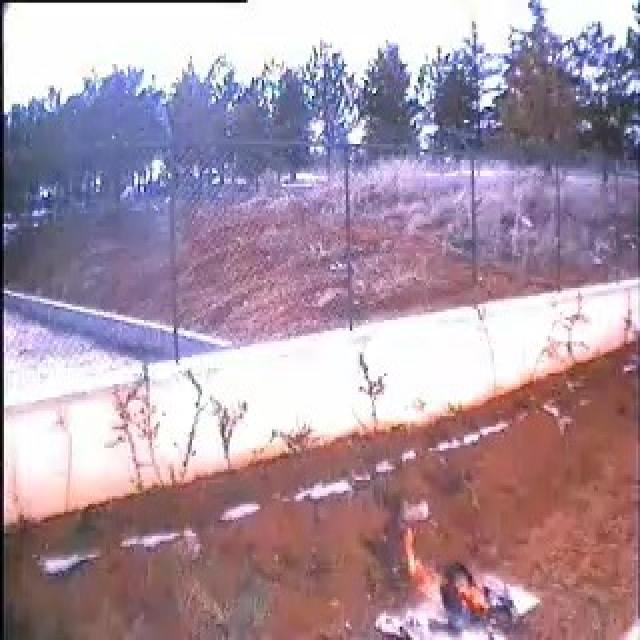fire: (405, 535, 446, 589)
smoke: (373, 554, 398, 596)
